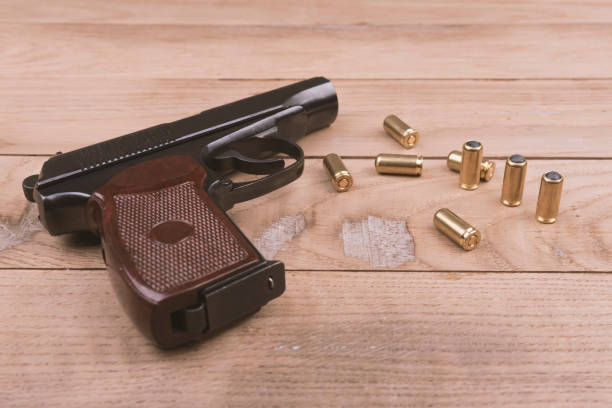gun: (20, 72, 342, 353)
